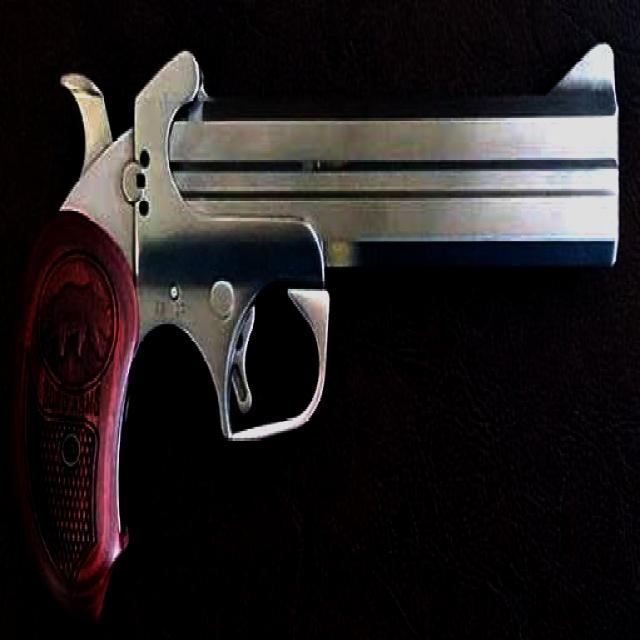revolver: (7, 0, 627, 632)
